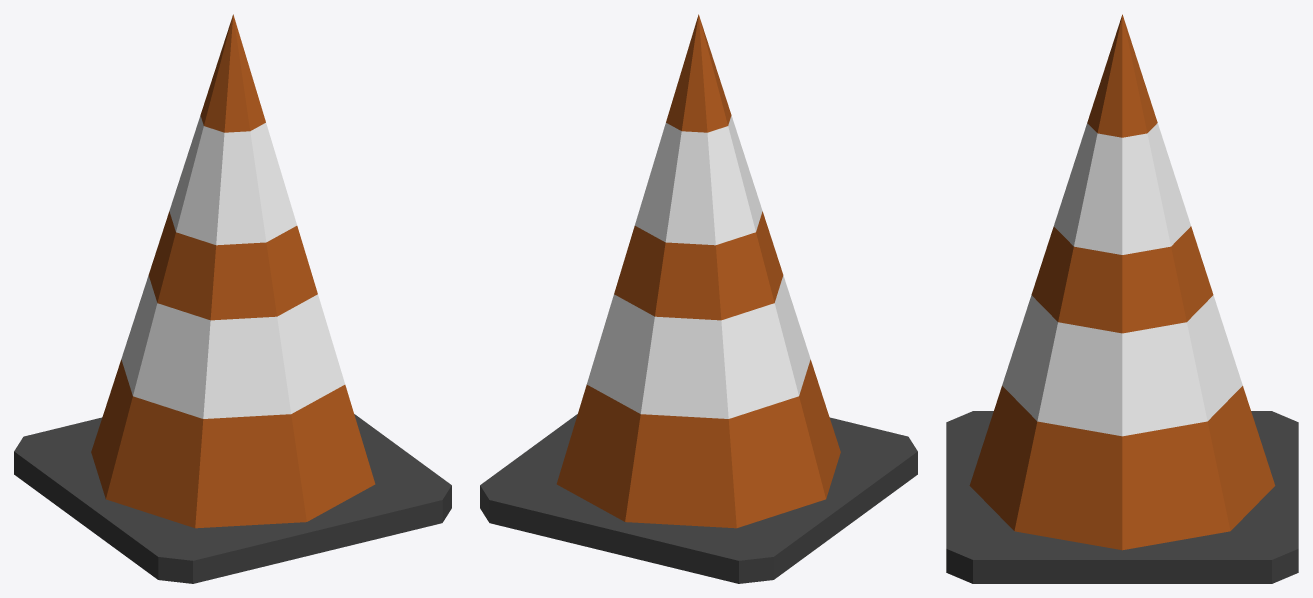
Rendered from Traffic_pot.fbx.
The picture shows the model from 3 angles, left to right: view 1: azimuth 30°, elevation 25°; view 2: azimuth 150°, elevation 25°; view 3: azimuth 270°, elevation 25°; orthographic projection. The views are drawn at different scales.
Parts seen in each view (by area): view 1: Plane; view 2: Plane; view 3: Plane.
Boxes of the visible parts, x1,y1,x2,y2 form: Plane: [14, 14, 451, 583]; Plane: [480, 14, 917, 583]; Plane: [946, 14, 1298, 583].
Size of the model in its own units: 26.5 by 41.16 by 26.52.
1 material, 1 textured.
